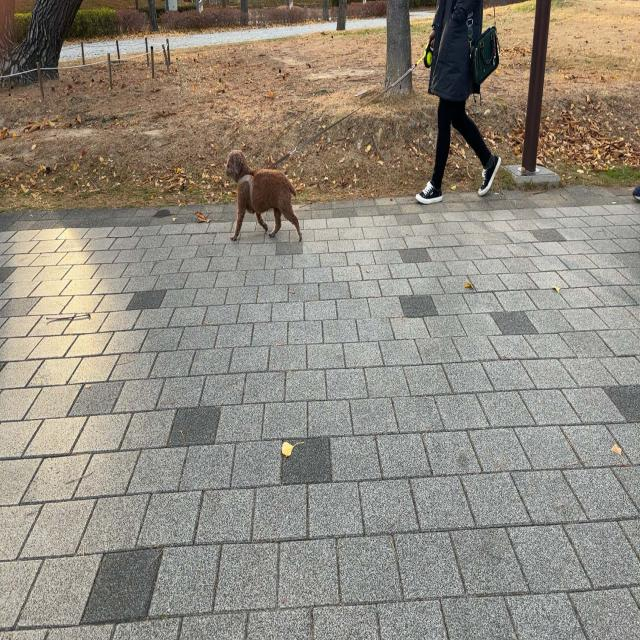Leashed_Dog: (225, 27, 443, 240)
